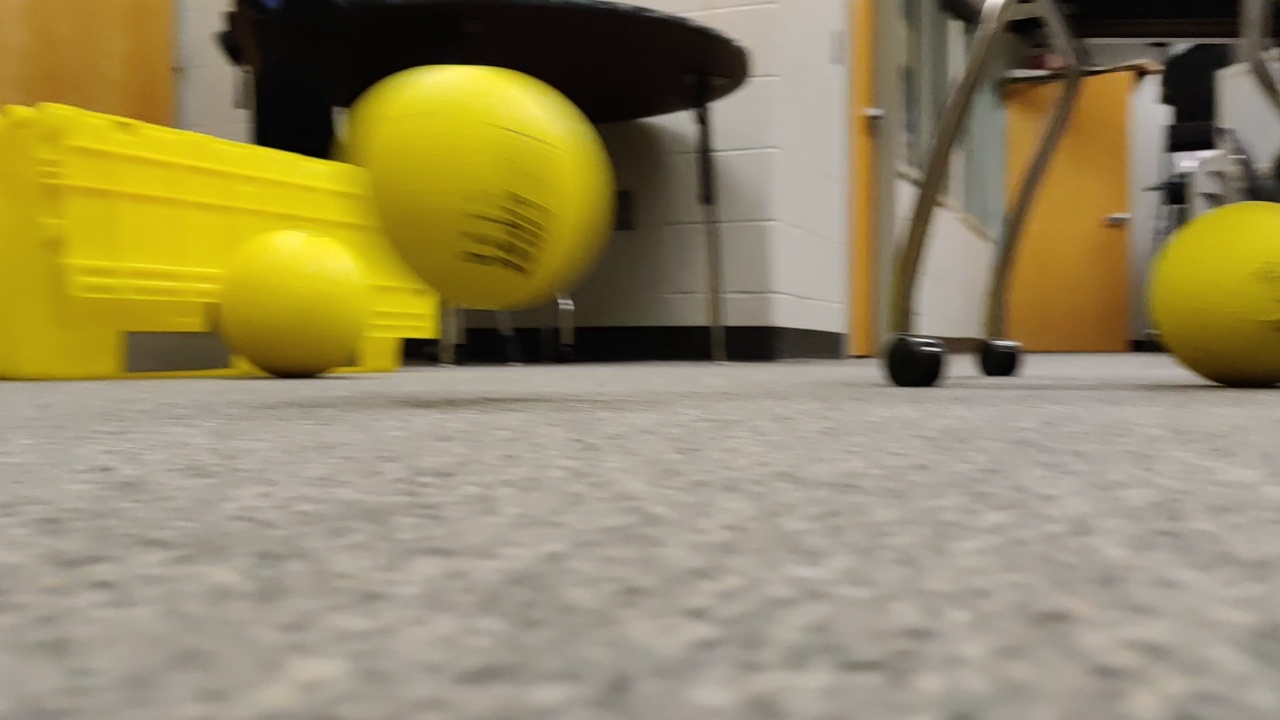Ball: (362, 69, 619, 307), (1144, 204, 1280, 379), (229, 225, 368, 374)
